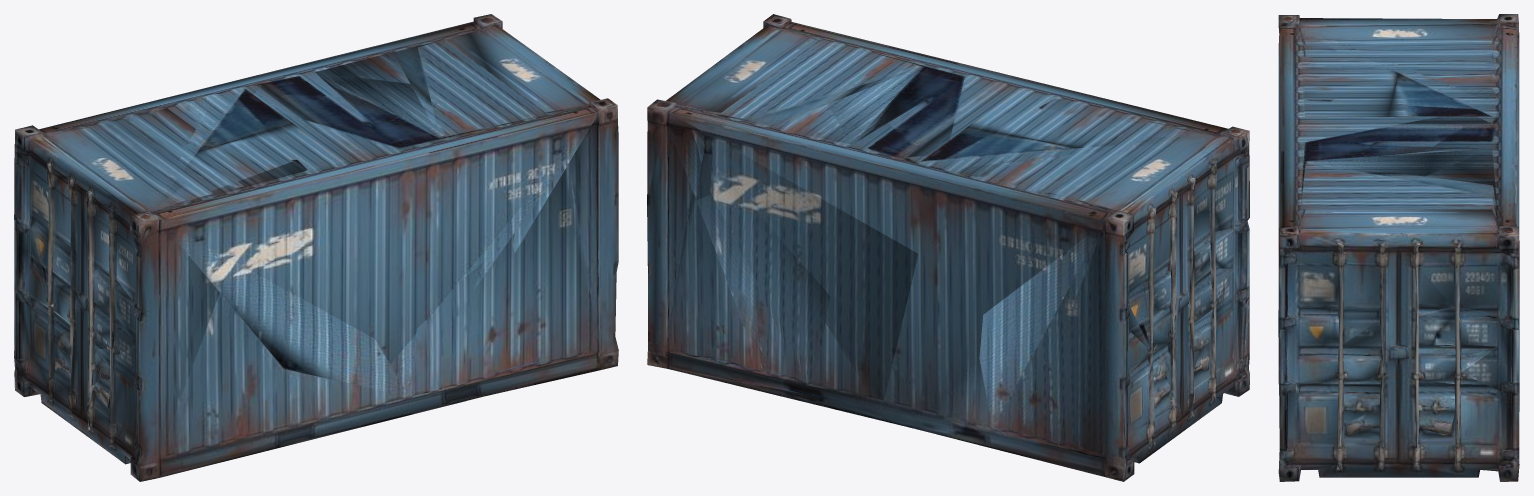
The model's file is container.glb.
3 renders of one model, left to right at view 1: azimuth 30°, elevation 25°; view 2: azimuth 150°, elevation 25°; view 3: azimuth 270°, elevation 25°, orthographic. The views are drawn at different scales.
Visible parts, largest first — view 1: Mesh_0; view 2: Mesh_0; view 3: Mesh_0.
Boxes of the visible parts, bbox=[...] form: Mesh_0: bbox=[14, 14, 618, 481]; Mesh_0: bbox=[647, 14, 1249, 481]; Mesh_0: bbox=[1278, 14, 1519, 481].
Bounding box in the file's own units: 1.89 × 0.9849 × 0.8689.
Materials: 1 (1 with a texture image).
